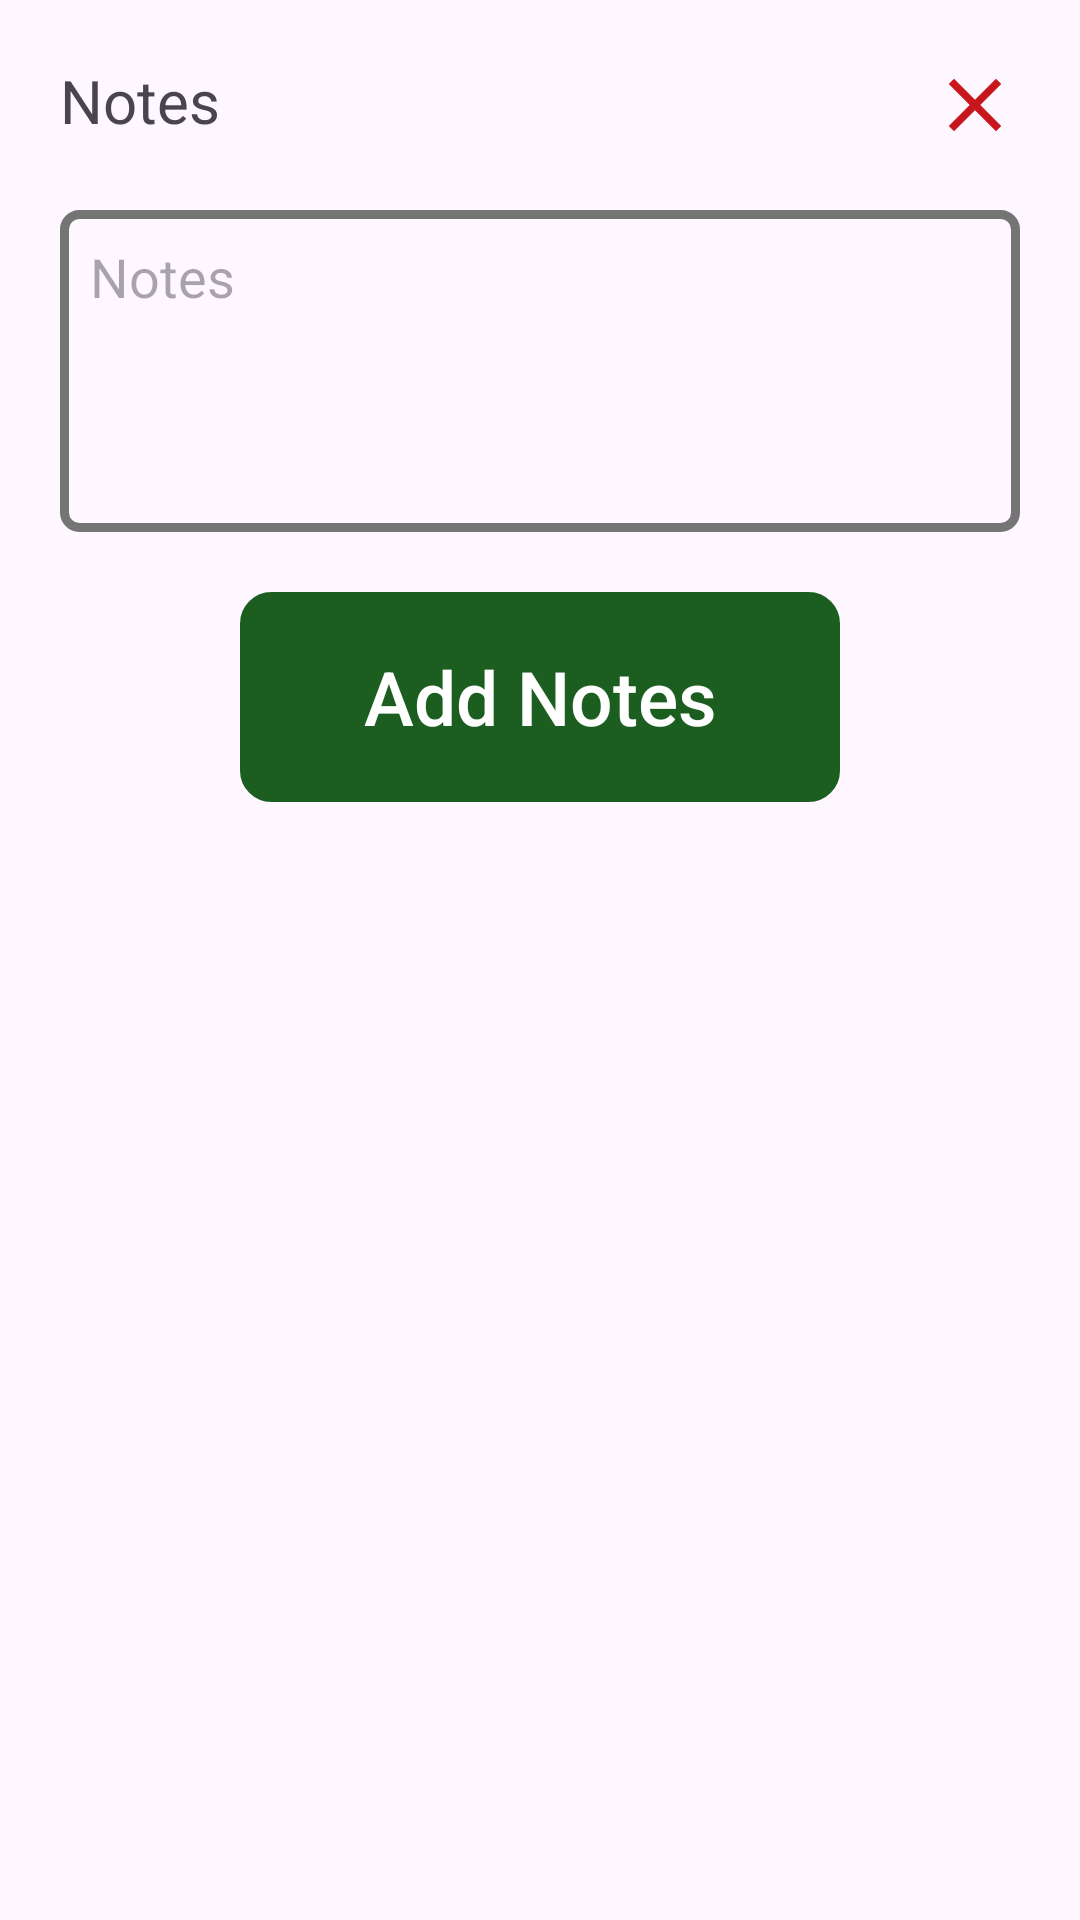

Where icons sit on this 1080 x 1920 app screen, as [left=x1, top=y1, right=x2, bottom=y2]:
close: [left=949, top=79, right=1001, bottom=131]
